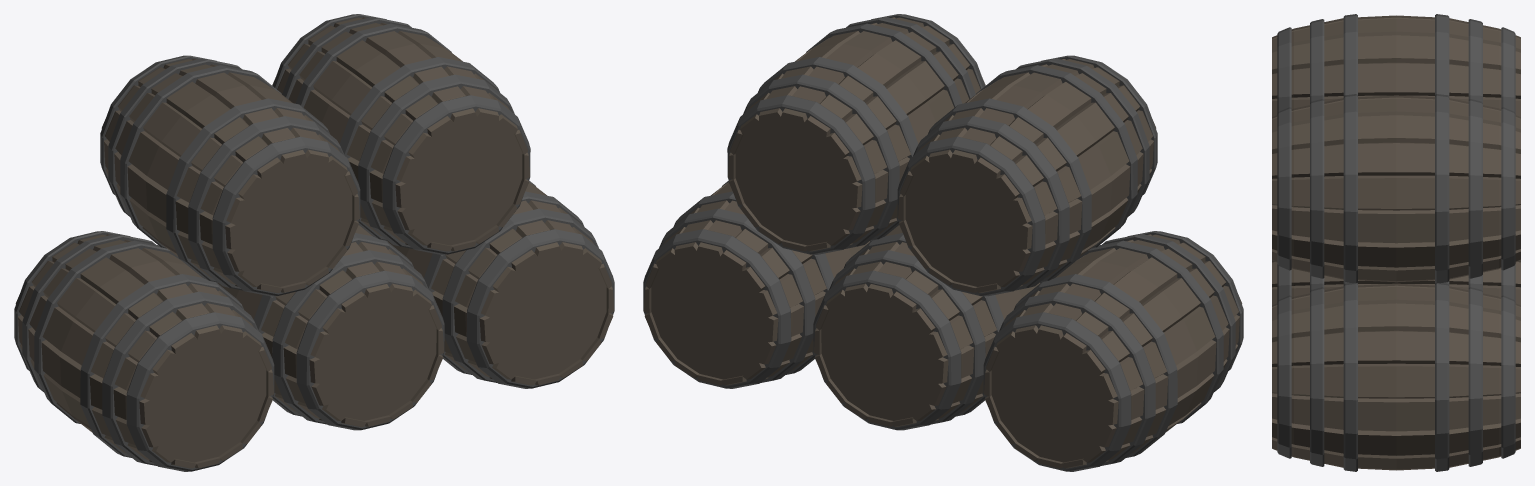
File: Prop_Barrel_Stak_01.fbx
3 renders of one model, left to right at view 1: azimuth 30°, elevation 25°; view 2: azimuth 150°, elevation 25°; view 3: azimuth 270°, elevation 25°, orthographic. The views are drawn at different scales.
Parts seen in each view (by area): view 1: Prop_Barrel_Stak_01_LOD0; view 2: Prop_Barrel_Stak_01_LOD0; view 3: Prop_Barrel_Stak_01_LOD0.
Part boxes in pixels (x1,y1,x2,y2): Prop_Barrel_Stak_01_LOD0: (14,14,614,471); Prop_Barrel_Stak_01_LOD0: (643,14,1243,471); Prop_Barrel_Stak_01_LOD0: (1272,14,1520,471).
Size of what is drawn, in the model's own units: 201 by 125 by 88.44.
